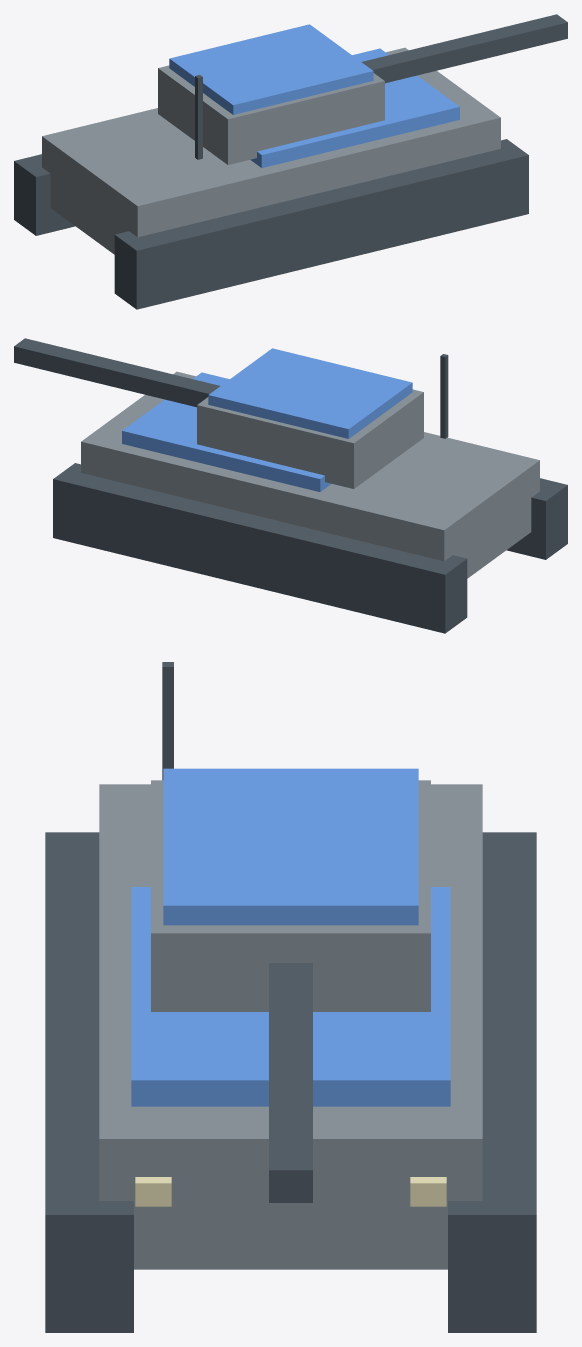
File: gevechtstank.glb
3 views of the same model, one above another, from view 1: azimuth 30°, elevation 25°; view 2: azimuth 150°, elevation 25°; view 3: azimuth 270°, elevation 25° (orthographic). The views are drawn at different scales.
Parts seen in each view (by area): view 1: hull_dark_LOD0, hull_steel_LOD0, turret_team_LOD0, turret_steel_LOD0, hull_team_LOD0, barrel_dark_LOD0; view 2: hull_dark_LOD0, hull_steel_LOD0, turret_team_LOD0, turret_steel_LOD0, hull_team_LOD0, barrel_dark_LOD0; view 3: hull_steel_LOD0, hull_dark_LOD0, turret_team_LOD0, hull_team_LOD0, turret_steel_LOD0, barrel_dark_LOD0, hull_lamp_LOD0.
Boxes of the visible parts, x1,y1,x2,y2 form: hull_dark_LOD0: (14,75,528,309); hull_steel_LOD0: (42,47,500,254); turret_team_LOD0: (169,24,373,114); turret_steel_LOD0: (158,65,384,164); hull_team_LOD0: (250,48,459,167); barrel_dark_LOD0: (361,14,567,83); hull_dark_LOD0: (53,354,567,633); hull_steel_LOD0: (81,371,539,578); turret_team_LOD0: (208,348,412,438); turret_steel_LOD0: (197,389,423,488); hull_team_LOD0: (122,372,331,491); barrel_dark_LOD0: (14,338,220,407); hull_steel_LOD0: (99,784,482,1269); hull_dark_LOD0: (45,662,536,1332); turret_team_LOD0: (163,768,418,925); hull_team_LOD0: (131,887,450,1106); turret_steel_LOD0: (151,780,430,1011); barrel_dark_LOD0: (269,963,312,1202); hull_lamp_LOD0: (135,1177,446,1206).
Size of what is drawn, in the model's own units: 7.79 by 2.88 by 3.4.
